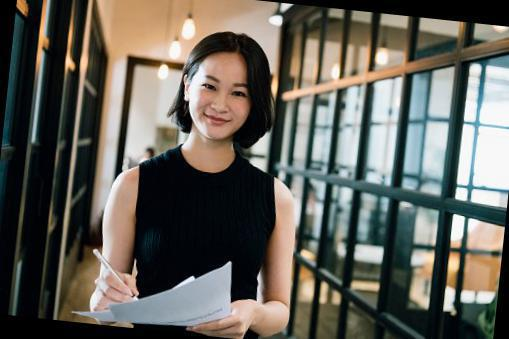Sober: (195, 58, 247, 138)
